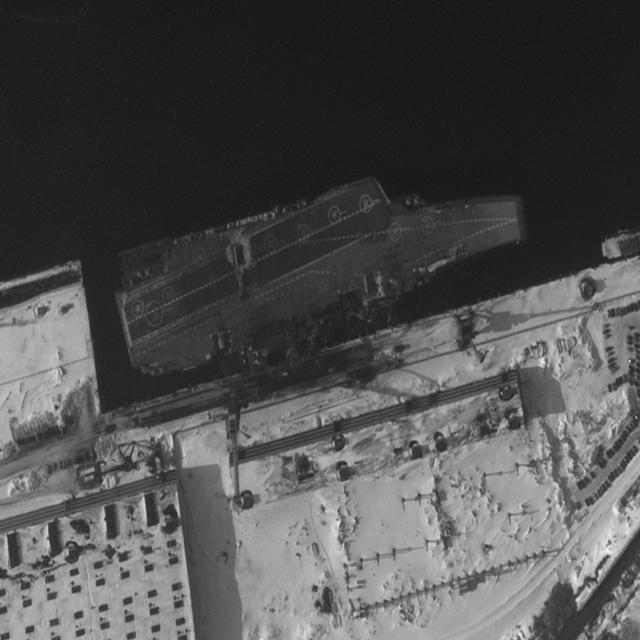Aircraft Carrier: (108, 140, 529, 386)
